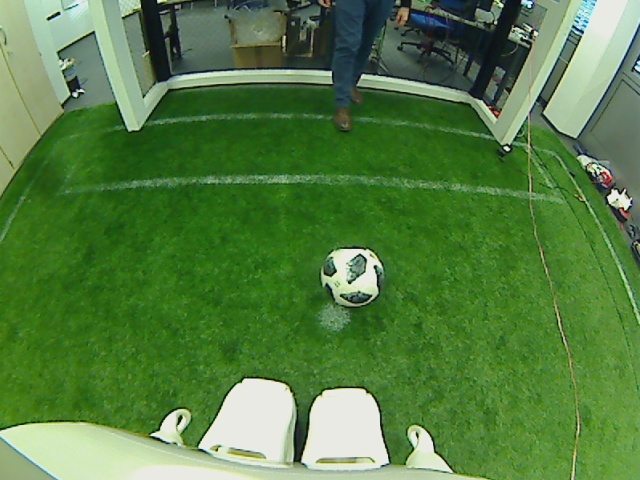ball: (317, 242, 385, 310)
